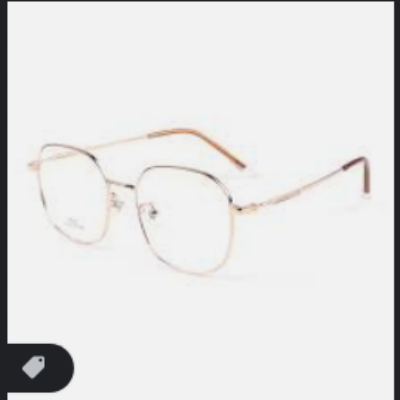glasses: (29, 124, 376, 285)
